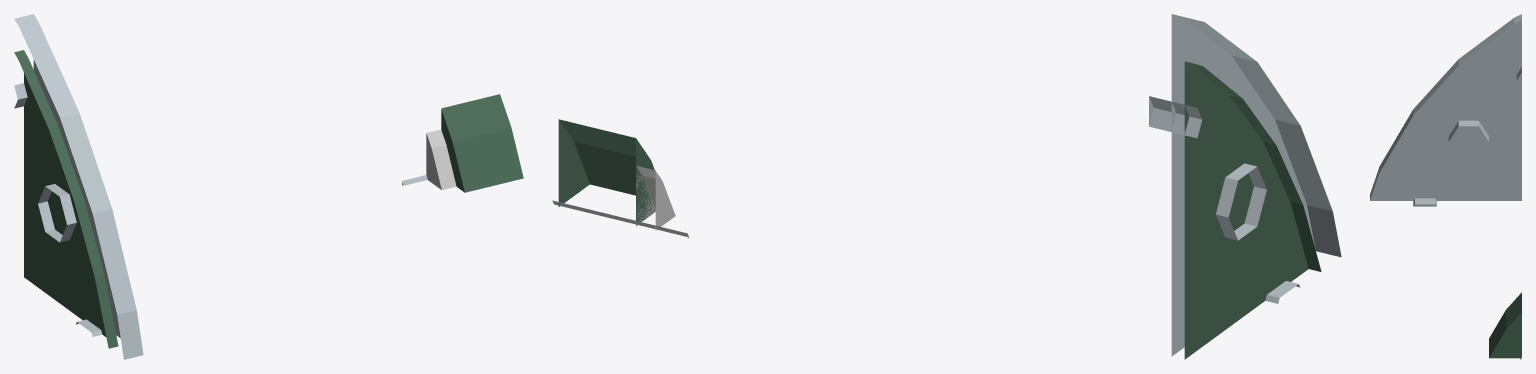
Rendered from cell_67.obj.
3 views of the same model, side by side, from view 1: azimuth 30°, elevation 25°; view 2: azimuth 150°, elevation 25°; view 3: azimuth 270°, elevation 25° (orthographic). The views are drawn at different scales.
Size of the model in its own units: 1 by 0.5078 by 0.3874.
